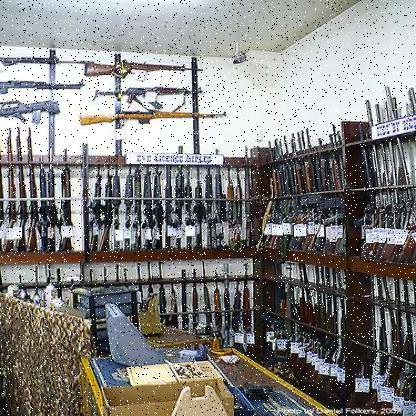rifle: (73, 107, 245, 142), (89, 76, 215, 115), (86, 57, 210, 90), (0, 69, 88, 98), (0, 99, 68, 133)
